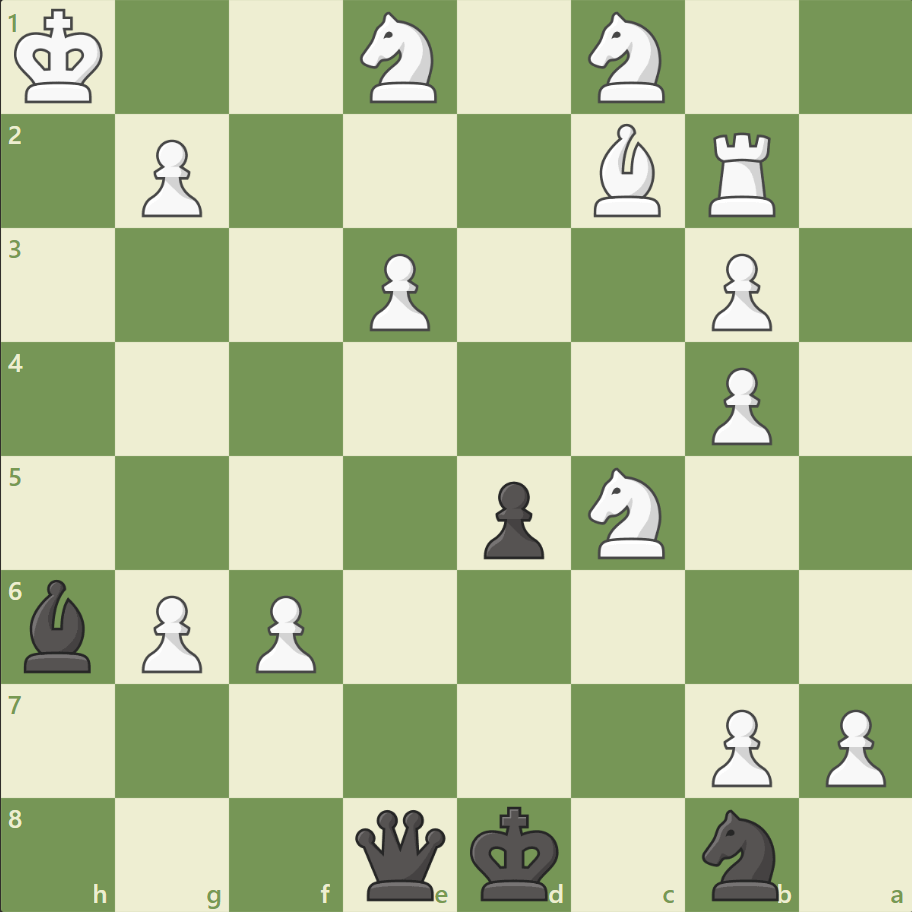B: (585, 120, 669, 222)
K: (11, 4, 111, 112)
N: (351, 7, 449, 110), (579, 461, 676, 564), (579, 7, 676, 110)
P: (701, 700, 776, 791), (247, 586, 322, 677), (133, 586, 208, 677), (701, 359, 776, 450), (701, 246, 776, 337), (133, 132, 208, 223), (815, 700, 889, 791), (361, 246, 435, 337)
R: (700, 125, 783, 222)
b: (17, 574, 101, 676)
k: (465, 798, 565, 906)
n: (692, 802, 789, 904)
p: (474, 473, 549, 564)
q: (351, 804, 450, 903)
